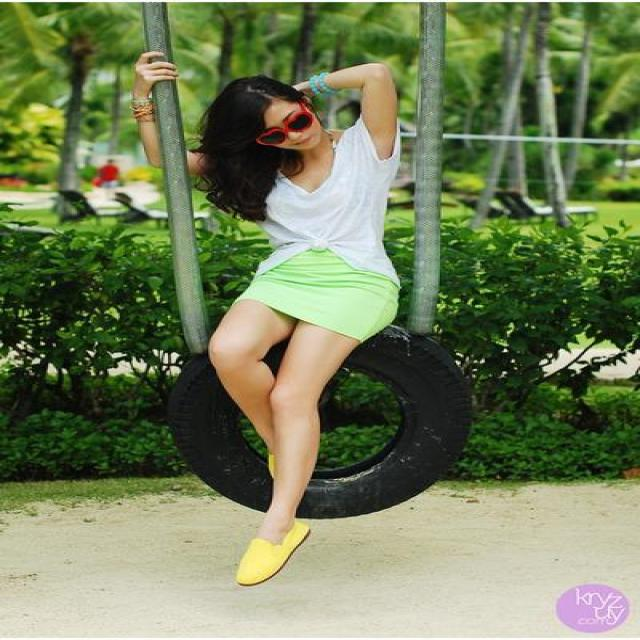shirt: (266, 118, 396, 276)
shoe: (237, 525, 307, 583)
skirt: (235, 246, 400, 342)
